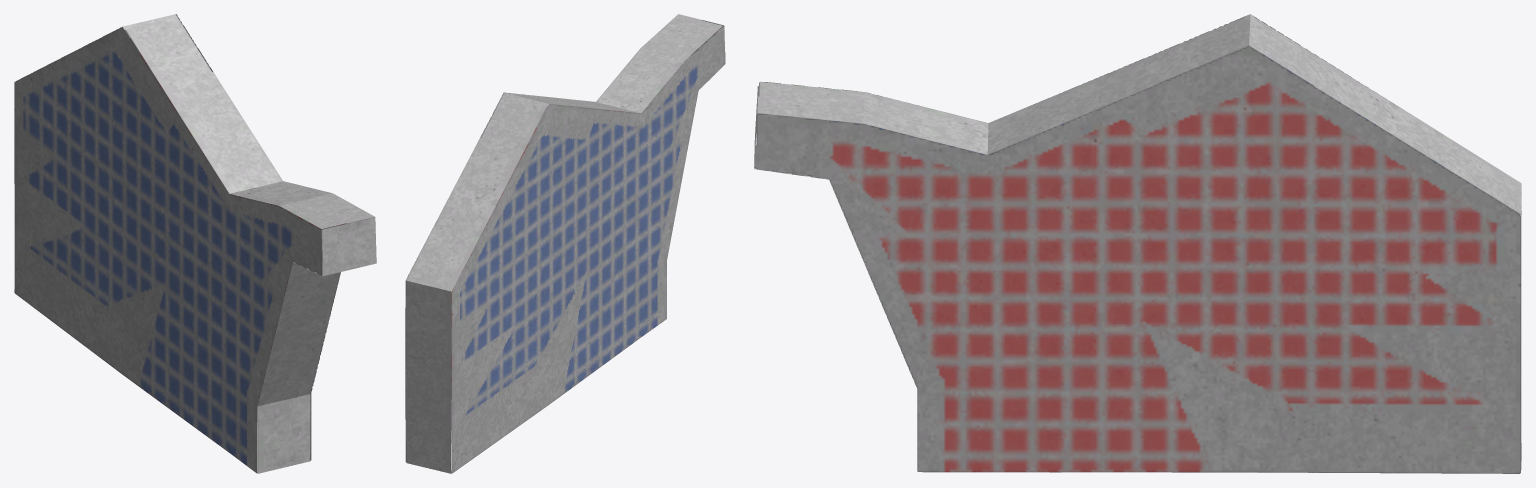
File: DragonTailLeft.fbx
The picture shows the model from 3 angles, left to right: view 1: azimuth 30°, elevation 25°; view 2: azimuth 150°, elevation 25°; view 3: azimuth 270°, elevation 25°; orthographic projection. The views are drawn at different scales.
Parts seen in each view (by area): view 1: tail_01; view 2: tail_01; view 3: tail_01.
Boxes of the visible parts, x1,y1,x2,y2 form: tail_01: [14, 14, 376, 473]; tail_01: [405, 14, 725, 473]; tail_01: [754, 14, 1521, 473].
Bounding box in the file's own units: 98.24 × 567 × 924.
